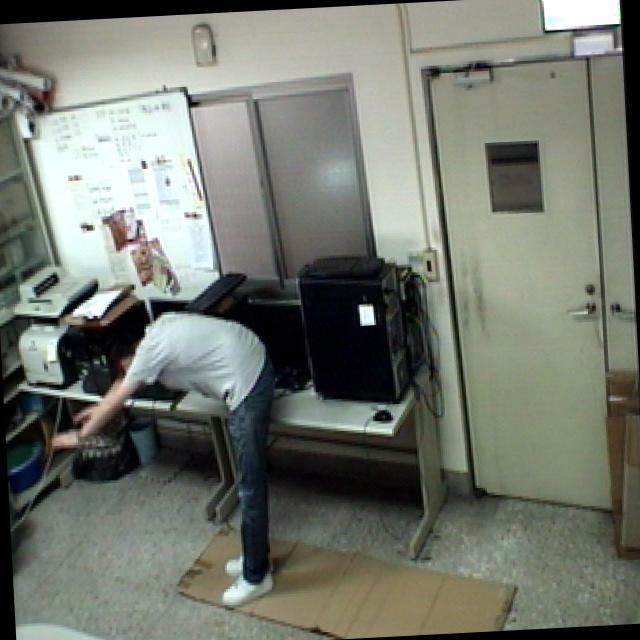bend: (36, 304, 284, 624)
